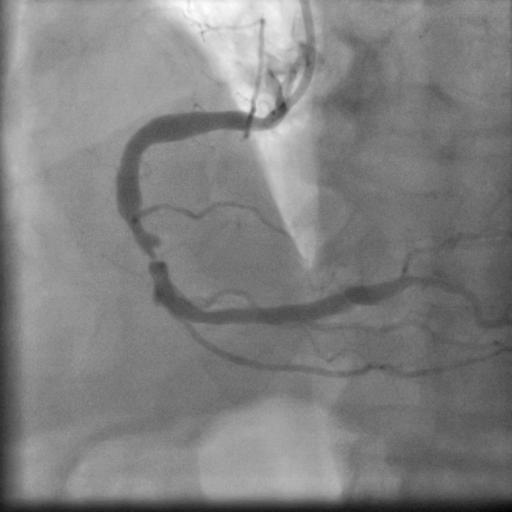Stenosis: (127, 224, 166, 271)
